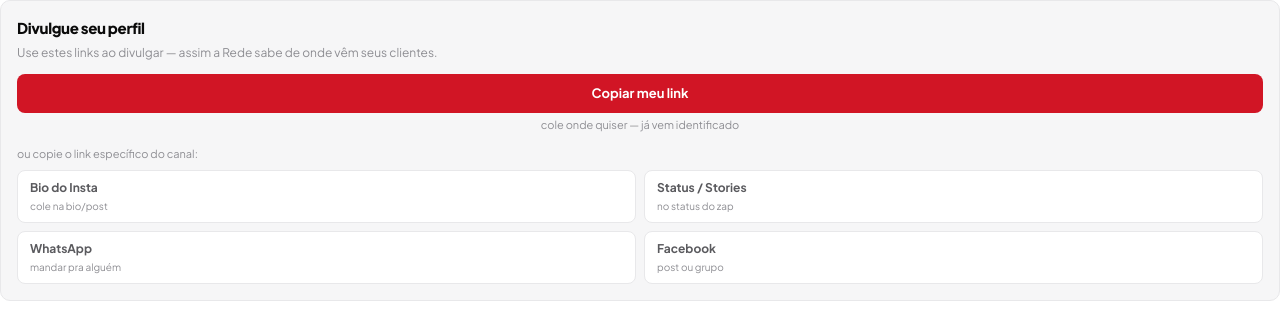
Test case: DivulgarPorCanal › o link por canal sai com o utm_source do canal
Click the text "Bio do Insta".
click(64, 188)  # box top-left (30, 179), bottom-right (98, 197)
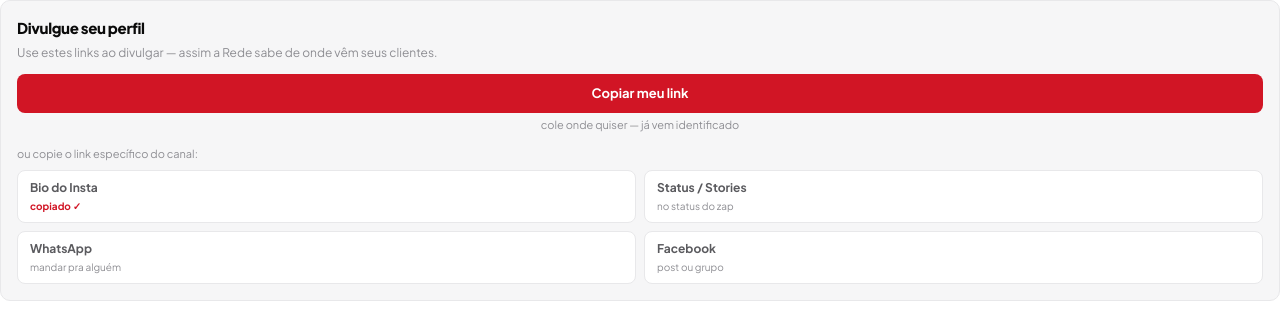
Expected: the text "copiado ✓" is shown, top-left (30, 199), bottom-right (81, 214)
